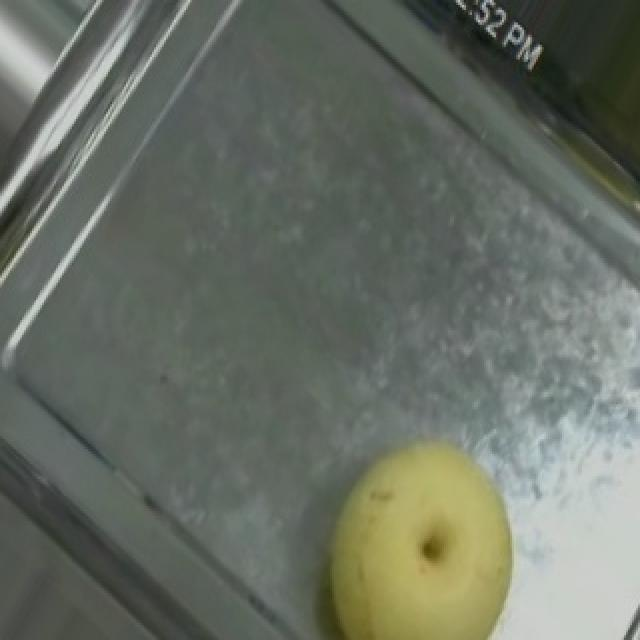Fruit: (274, 397, 556, 640)
